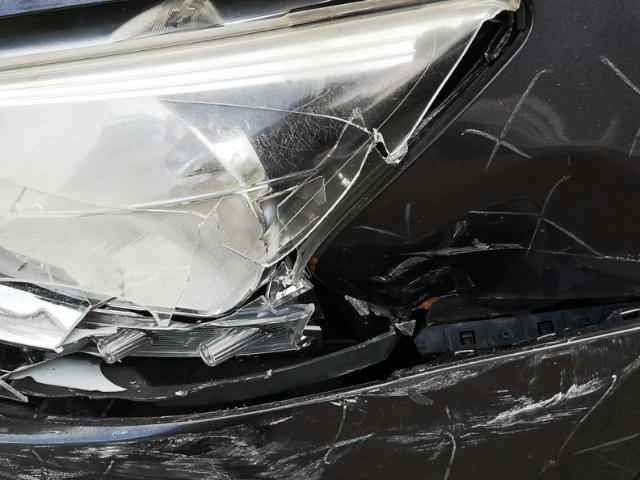Bumper: (0, 327, 640, 480)
Light: (0, 0, 488, 319)
